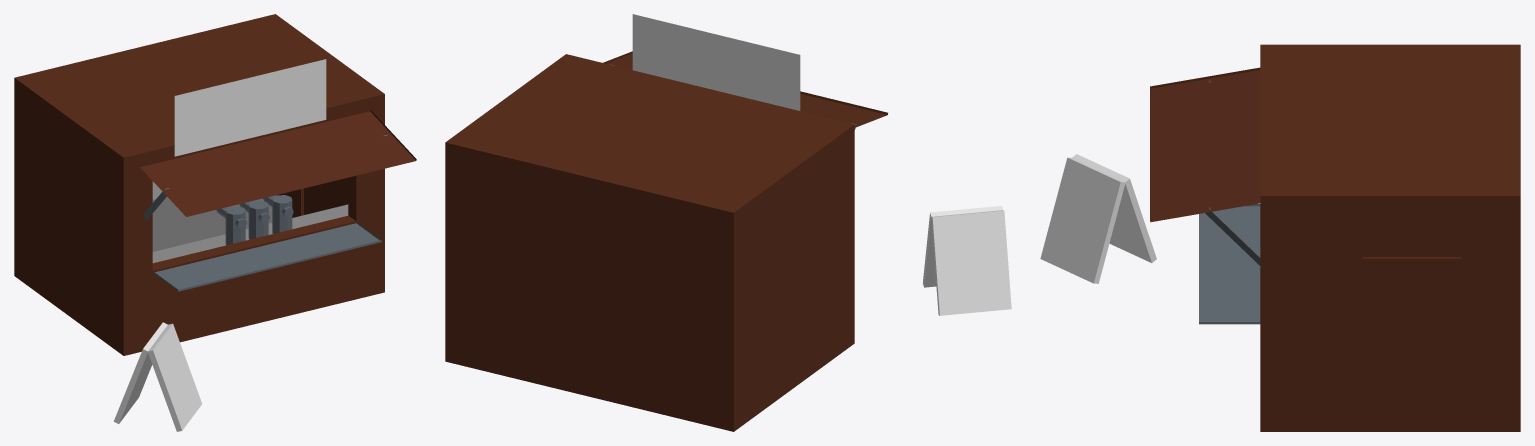
File: BeerPlace1.dae
3 renders of one model, left to right at view 1: azimuth 30°, elevation 25°; view 2: azimuth 150°, elevation 25°; view 3: azimuth 270°, elevation 25°, orthographic. The views are drawn at different scales.
Visible parts, largest first — view 1: BeerPlace1; view 2: BeerPlace1; view 3: BeerPlace1.
Part boxes in pixels (box(x1,y1,x2,y2)): BeerPlace1: box(14, 14, 416, 431); BeerPlace1: box(445, 14, 1011, 431); BeerPlace1: box(1040, 44, 1520, 431).
Size of the model in its own units: 3.59 by 3.69 by 2.51.
